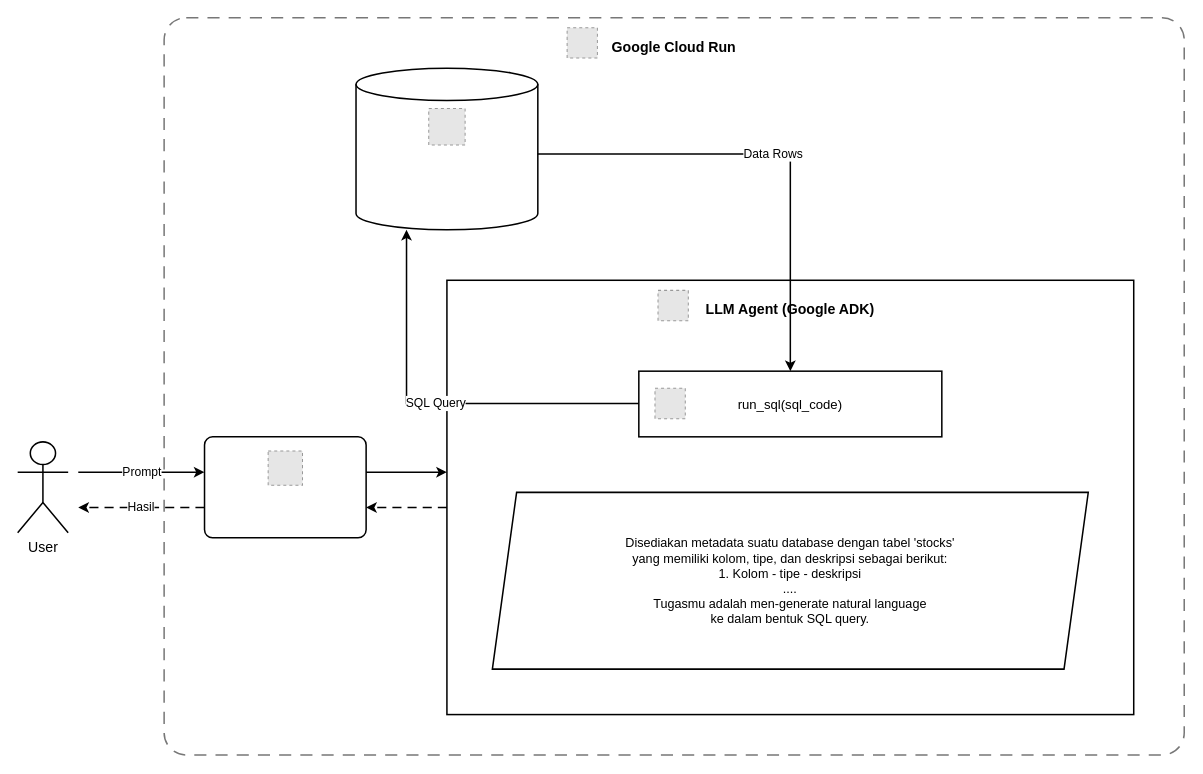
Some shapes in this 1203 by 774 pixel diagram are drawn without their labels. Grey dashed boxes stand in for pictures. Here are the shapes that lost their labels. From the top down, the box of each, then its label:
(355, 67, 538, 230): sqlite (prototype only)
(203, 436, 366, 538): FastAPI + Web UI
